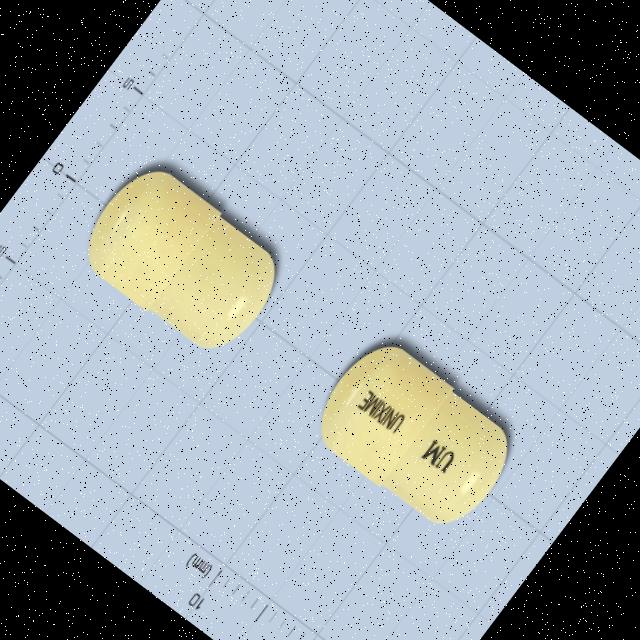Unixcim Cap: (300, 328, 527, 543), (68, 154, 295, 368)
